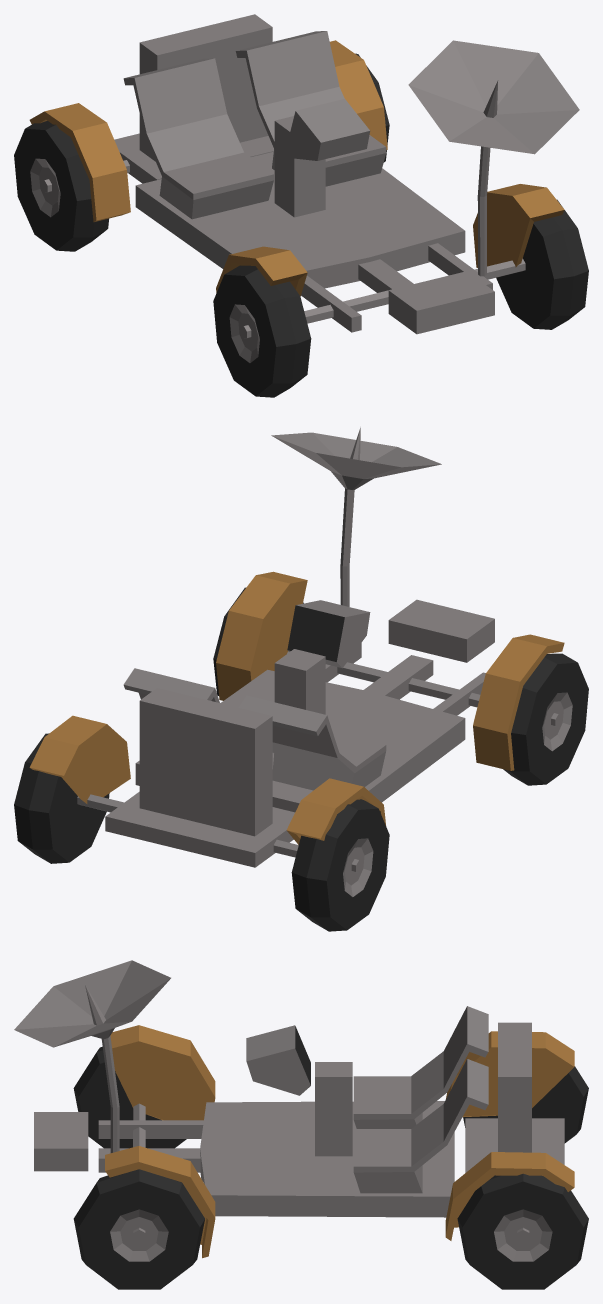
Rendered from lunar-rover.glb.
3 views of the same model, one above another, from view 1: azimuth 30°, elevation 25°; view 2: azimuth 150°, elevation 25°; view 3: azimuth 270°, elevation 25° (orthographic). The views are drawn at different scales.
Visible parts, largest first — view 1: lunar-rover-wheel, lunar-rover-base_FR, lunar-rover-base_BR, lunar-rover-base_FL; view 2: lunar-rover-wheel, lunar-rover-base_BR, lunar-rover-base_FR, lunar-rover-base_BL; view 3: lunar-rover-wheel, lunar-rover-base_FL, lunar-rover-base_BL, lunar-rover-base_FR, lunar-rover-base_BR.
Boxes of the visible parts, x1,y1,x2,y2 form: lunar-rover-wheel: (29, 14, 579, 338); lunar-rover-base_FR: (213, 265, 311, 397); lunar-rover-base_BR: (14, 121, 108, 251); lunar-rover-base_FL: (496, 199, 588, 329); lunar-rover-wheel: (29, 427, 564, 872); lunar-rover-base_BR: (291, 799, 389, 931); lunar-rover-base_FR: (503, 653, 588, 785); lunar-rover-base_BL: (14, 733, 109, 863); lunar-rover-wheel: (14, 960, 574, 1258); lunar-rover-base_FL: (73, 1169, 204, 1289); lunar-rover-base_BL: (457, 1173, 588, 1289); lunar-rover-base_FR: (73, 1046, 186, 1148); lunar-rover-base_BR: (463, 1066, 588, 1143).
Bounding box in the file's own units: 1.87 × 1.62 × 3.07.
Materials: 1 (1 with a texture image).
